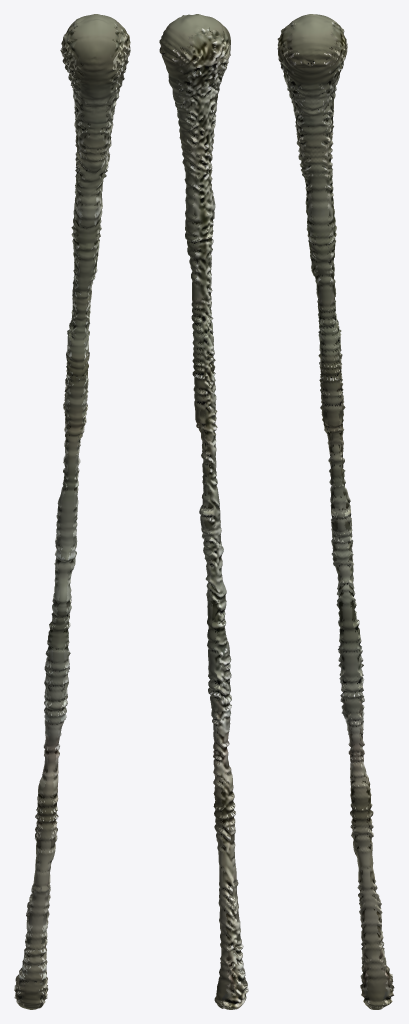
File: kfl-2262.glb
3 renders of one model, left to right at view 1: azimuth 90°, elevation 25°; view 2: azimuth 210°, elevation 25°; view 3: azimuth 270°, elevation 25°, orthographic. The views are drawn at different scales.
Visible parts, largest first — view 1: kfl-2262; view 2: kfl-2262; view 3: kfl-2262.
Part boxes in pixels (left/top/right/bottom): kfl-2262: left=14, top=14, right=130, bottom=1009; kfl-2262: left=159, top=14, right=248, bottom=1009; kfl-2262: left=277, top=14, right=394, bottom=1009.
Size of the model in its own units: 0.0687 by 0.9886 by 0.1056.
Materials: 4 (4 with a texture image).
